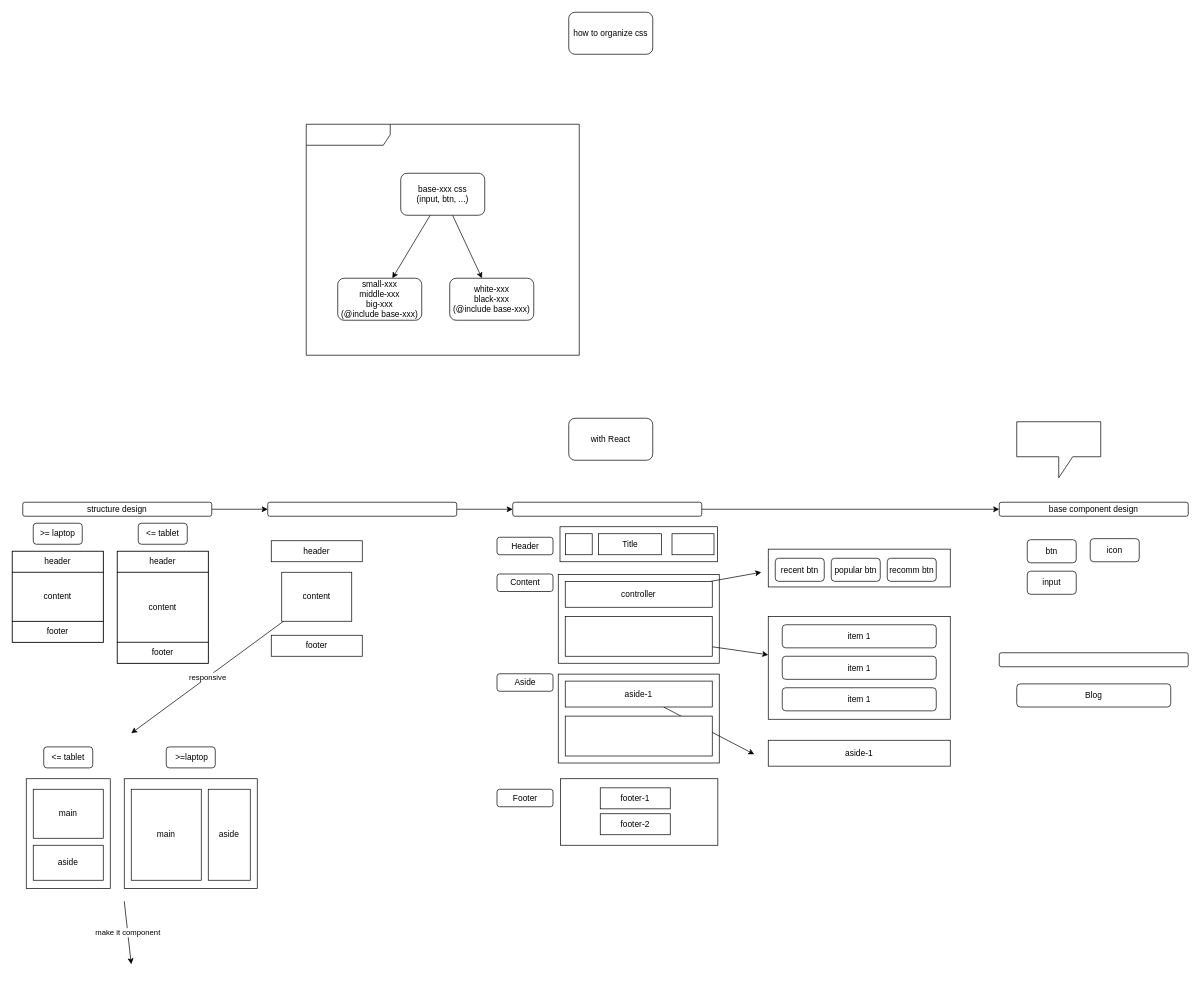
Some shapes in this 1201 by 982 pixel diagram are drawn without their labels. The shapes that lost their labels are listed below. From the top down, each one's centre as x and y in pixels, then its label:
At (442,239): "common.scss".
At (1058,449): "embed css with component".
At (362,509): "section design".
At (607,509): "components of each section design".
At (578,544): "Logo".
At (692,544): "MenuIcon".
At (638,636): "item list".
At (1093,659): "domain component design".
At (638,735): "aside-2".
